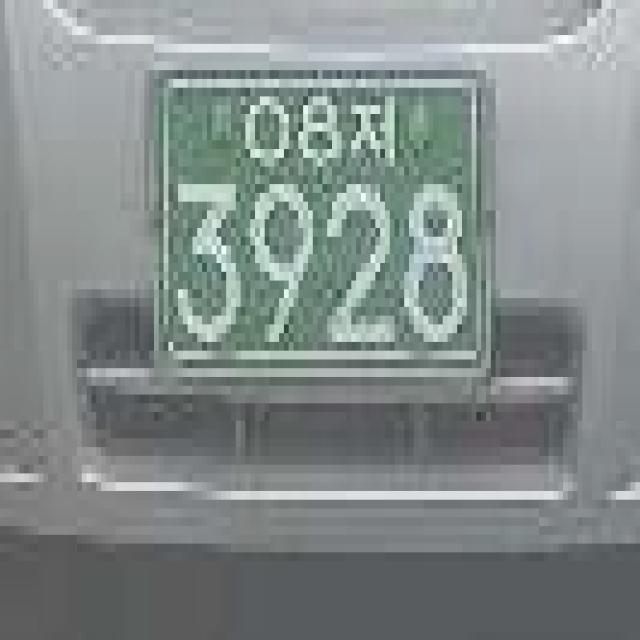illegal_plate: (138, 62, 504, 396)
